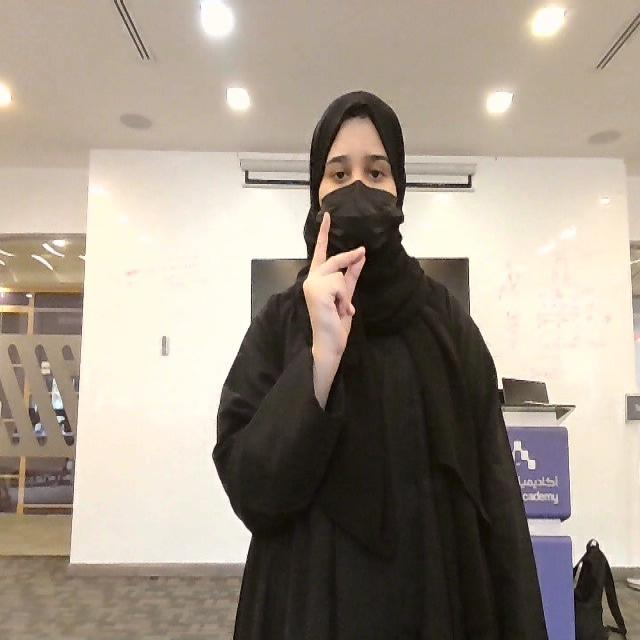emergency: (292, 207, 383, 394)
